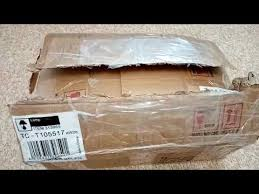damaged package: (33, 61, 233, 78)
